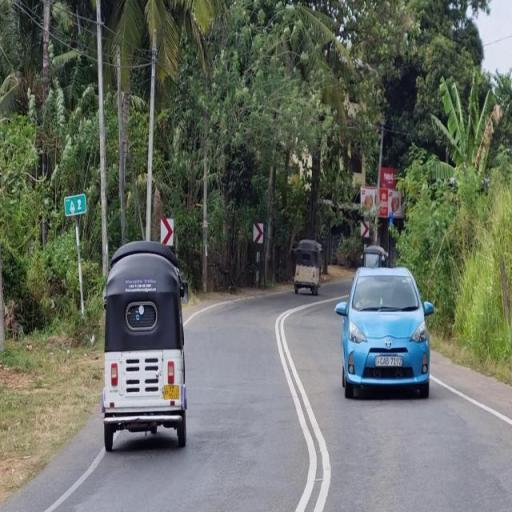double_white_line: (274, 302, 340, 510), (46, 450, 104, 511)
